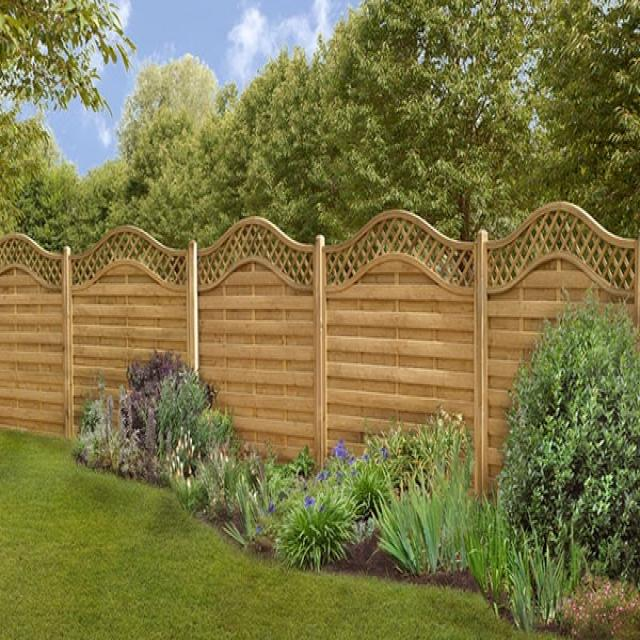Woods: (0, 202, 640, 501)
